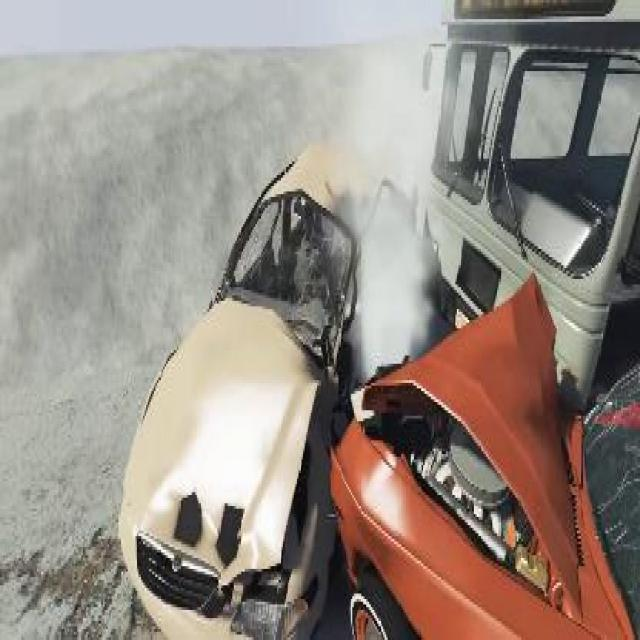accident: (103, 0, 638, 637)
